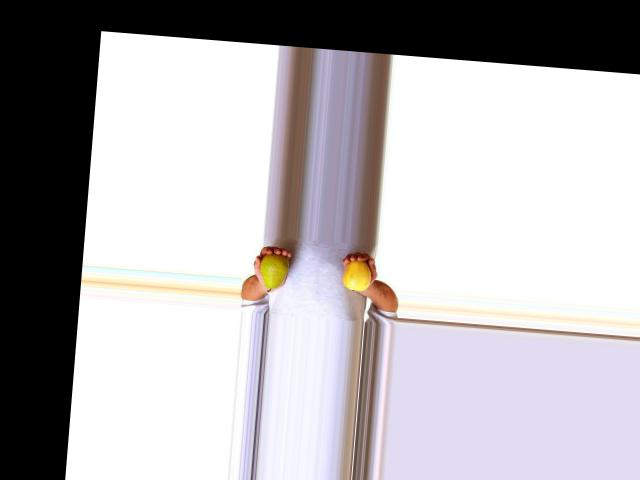apple: (341, 256, 375, 292)
